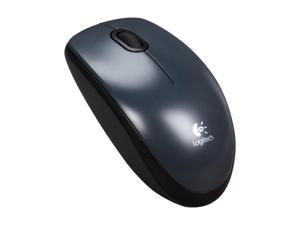Mouse: (63, 14, 239, 212)
